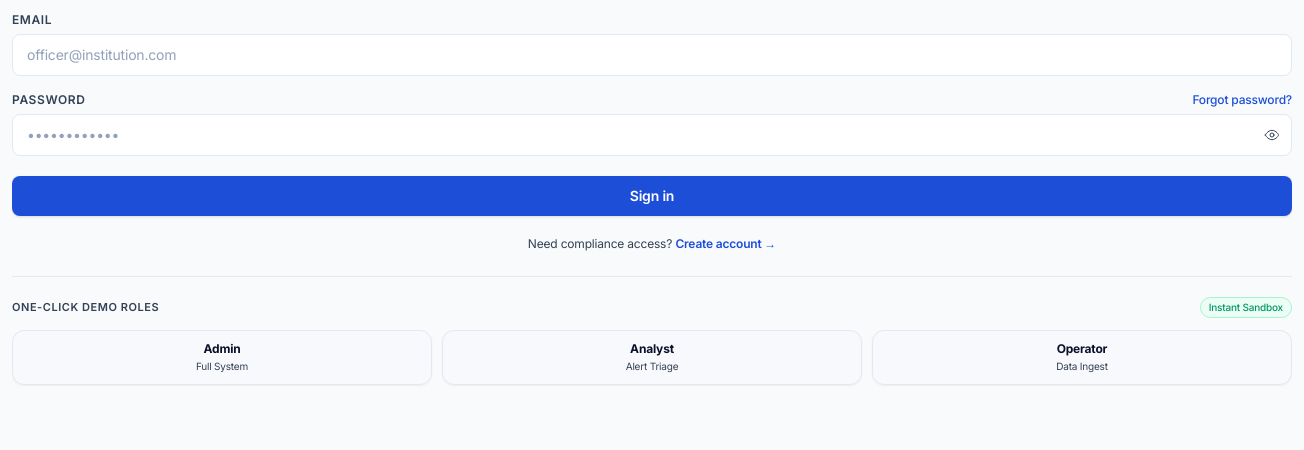
LoginForm › shows an inline error below the password field on failed sign-in, not a toast
Type "a@example.com" into the field labelled "Email".
click(652, 55); type("a@example.com")  # box [12,34,1292,76]
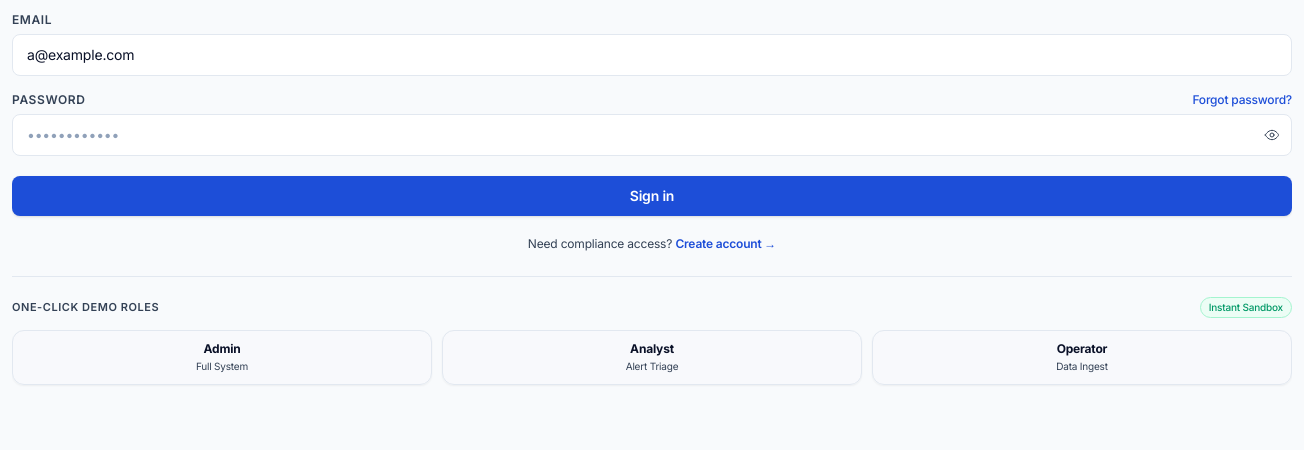
Type "wrong-password" into the password field labelled "Password".
click(652, 135); type("wrong-password")  # box [12,114,1292,156]
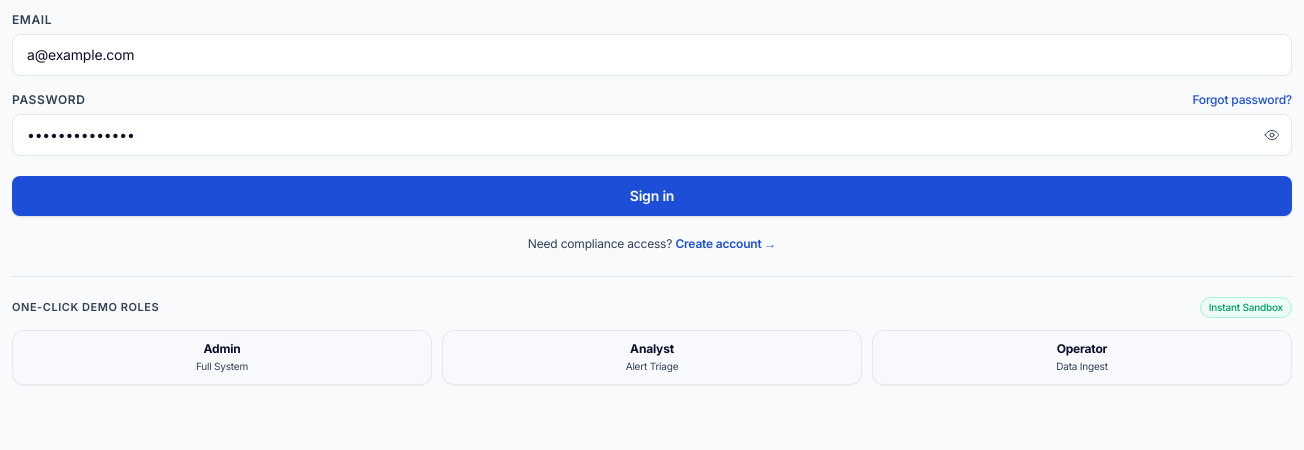
Click the button "Sign in".
click(652, 196)  # box [12,176,1292,216]
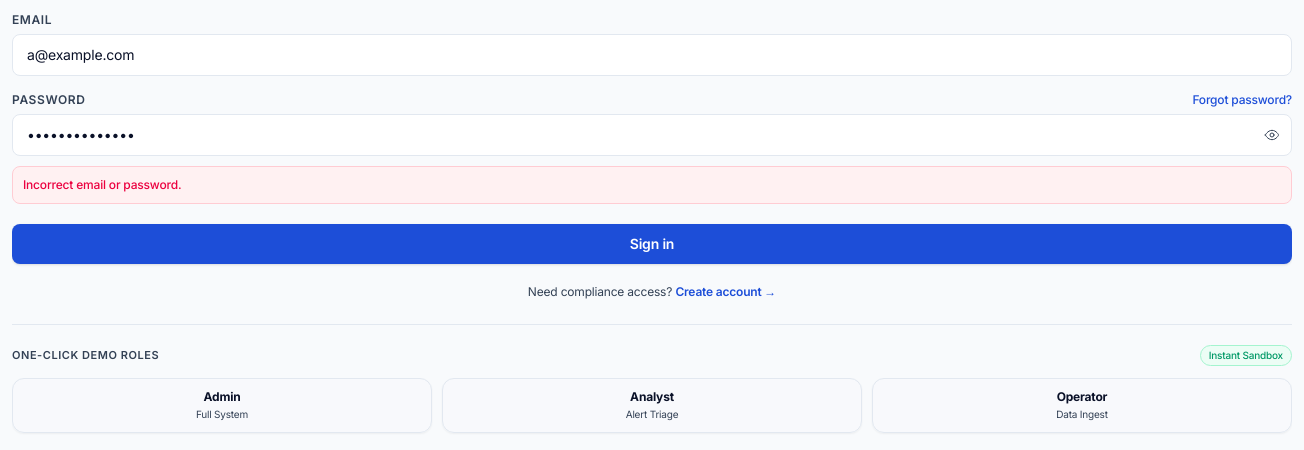
Check: the message reads "Incorrect email or password.", box [23,177,181,192]
